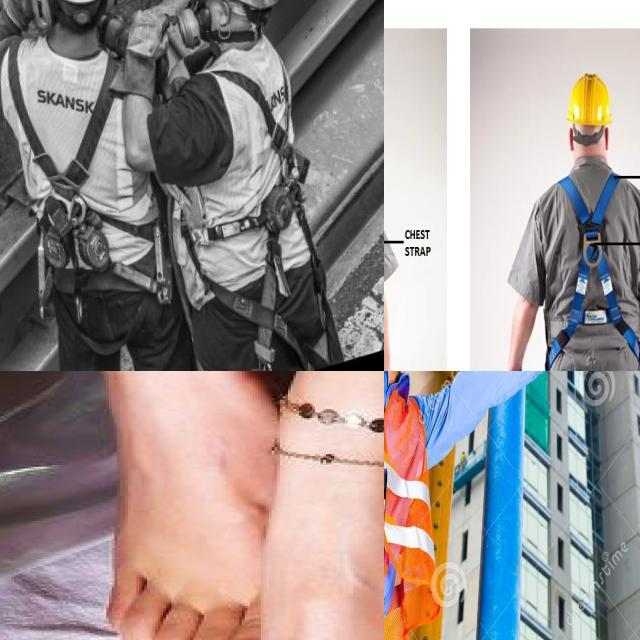Barefoots: (244, 426, 384, 640)
Harness: (7, 39, 116, 272), (542, 173, 640, 371), (218, 71, 311, 240)
person: (384, 371, 478, 640)
vest: (384, 371, 451, 625)
